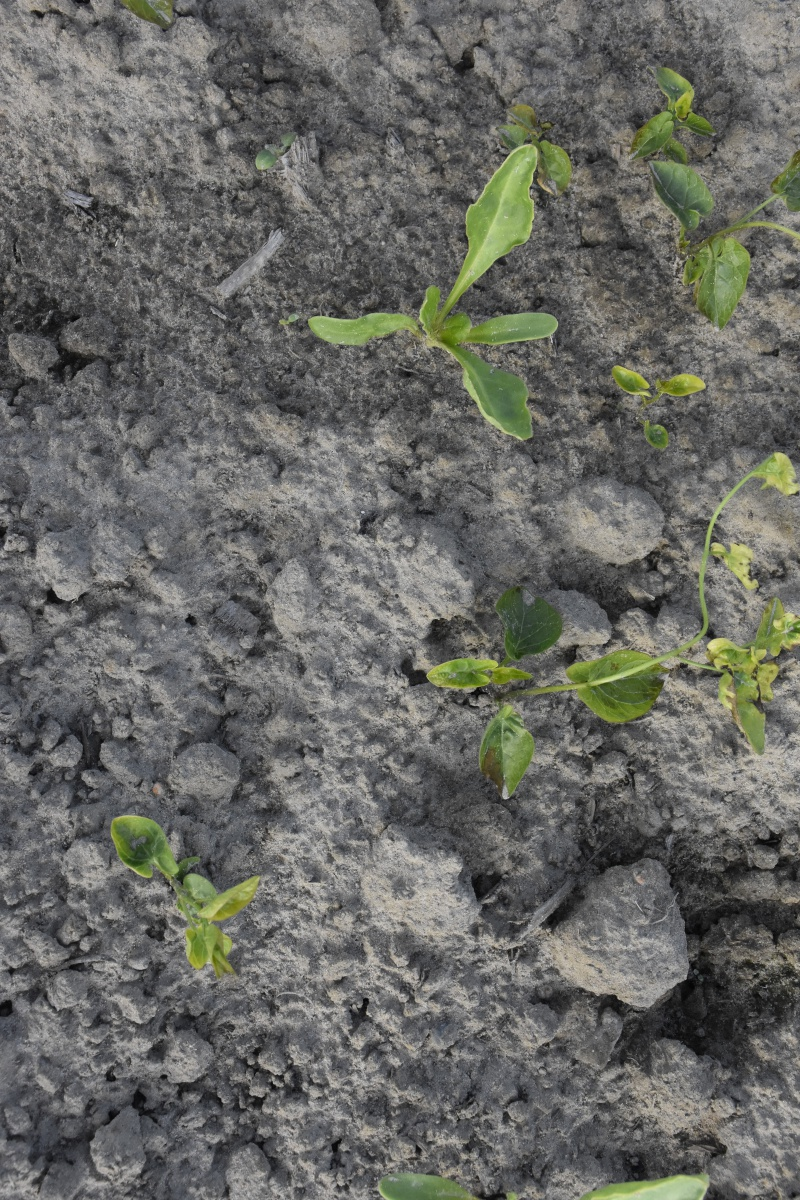field bindweed: (431, 459, 800, 779), (106, 811, 274, 989), (644, 158, 800, 335), (644, 46, 714, 181), (610, 361, 708, 445)
sugar beet: (304, 144, 553, 451)
